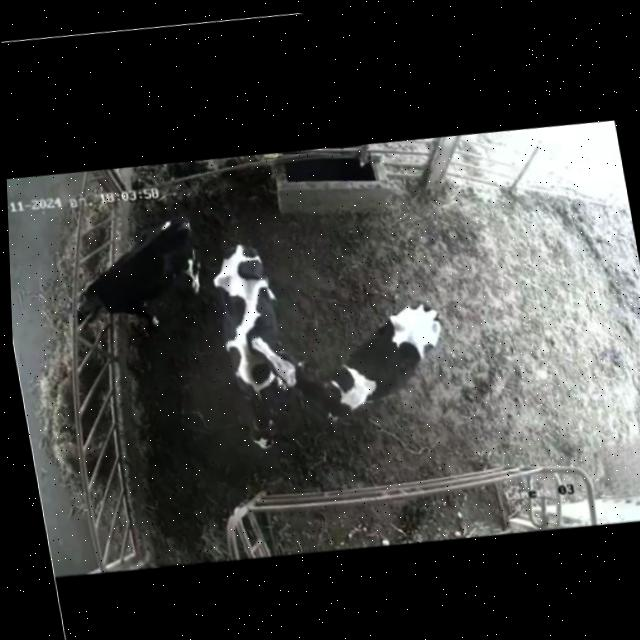eat: (43, 263, 141, 350)
propping: (230, 314, 328, 417)
stand: (180, 233, 321, 471)
